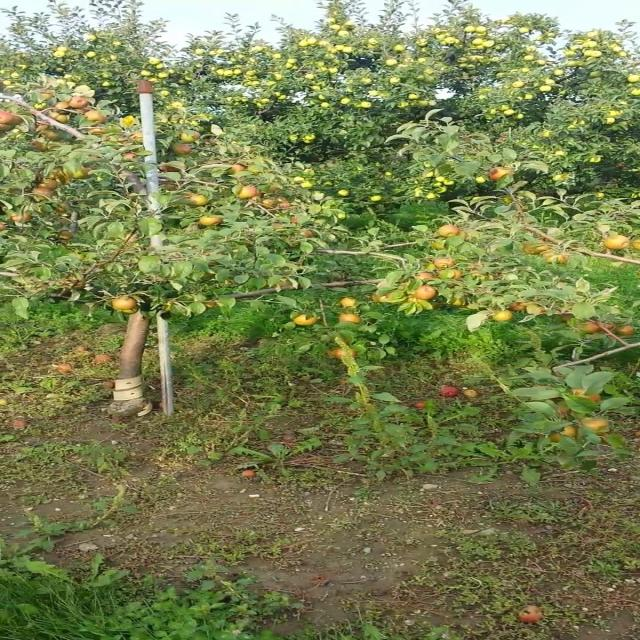apple: (575, 388, 604, 403), (554, 428, 581, 443), (582, 420, 612, 433), (70, 164, 94, 180), (42, 176, 69, 190), (326, 348, 357, 360), (604, 236, 628, 251), (412, 288, 441, 300), (35, 188, 57, 203), (134, 80, 156, 95), (234, 188, 258, 200), (525, 244, 549, 256), (177, 132, 201, 144), (440, 224, 462, 237), (70, 96, 92, 109), (554, 404, 576, 417), (49, 168, 69, 182), (525, 304, 548, 316), (440, 268, 462, 280), (84, 112, 108, 123), (198, 216, 222, 227), (490, 168, 512, 180), (49, 112, 71, 124), (547, 252, 569, 264), (419, 300, 441, 312), (191, 196, 212, 208), (13, 212, 34, 224), (298, 316, 320, 327), (490, 312, 514, 322), (35, 120, 55, 132), (276, 280, 297, 291), (113, 300, 137, 309), (433, 260, 457, 269), (618, 324, 636, 336), (42, 132, 66, 141), (35, 140, 52, 152), (120, 116, 137, 128), (276, 200, 293, 211), (340, 316, 363, 324), (596, 324, 619, 332), (177, 144, 192, 156), (419, 272, 439, 281), (376, 292, 391, 304), (454, 296, 469, 308), (35, 92, 57, 100), (6, 112, 20, 124), (582, 324, 597, 335), (163, 164, 183, 172), (298, 232, 318, 240), (547, 252, 560, 264), (120, 152, 137, 161), (58, 100, 71, 111), (383, 292, 396, 303), (120, 308, 140, 315), (340, 300, 357, 308), (511, 304, 528, 312), (269, 184, 284, 193), (56, 204, 71, 213), (205, 300, 220, 309), (92, 128, 108, 136), (262, 200, 277, 208), (127, 236, 142, 244), (561, 252, 571, 264), (234, 164, 247, 173), (454, 300, 468, 308), (205, 272, 219, 280), (63, 232, 76, 240), (134, 132, 144, 142), (561, 316, 574, 323), (276, 224, 286, 233), (291, 216, 300, 225), (632, 240, 639, 251), (35, 104, 46, 111), (433, 244, 446, 249)
